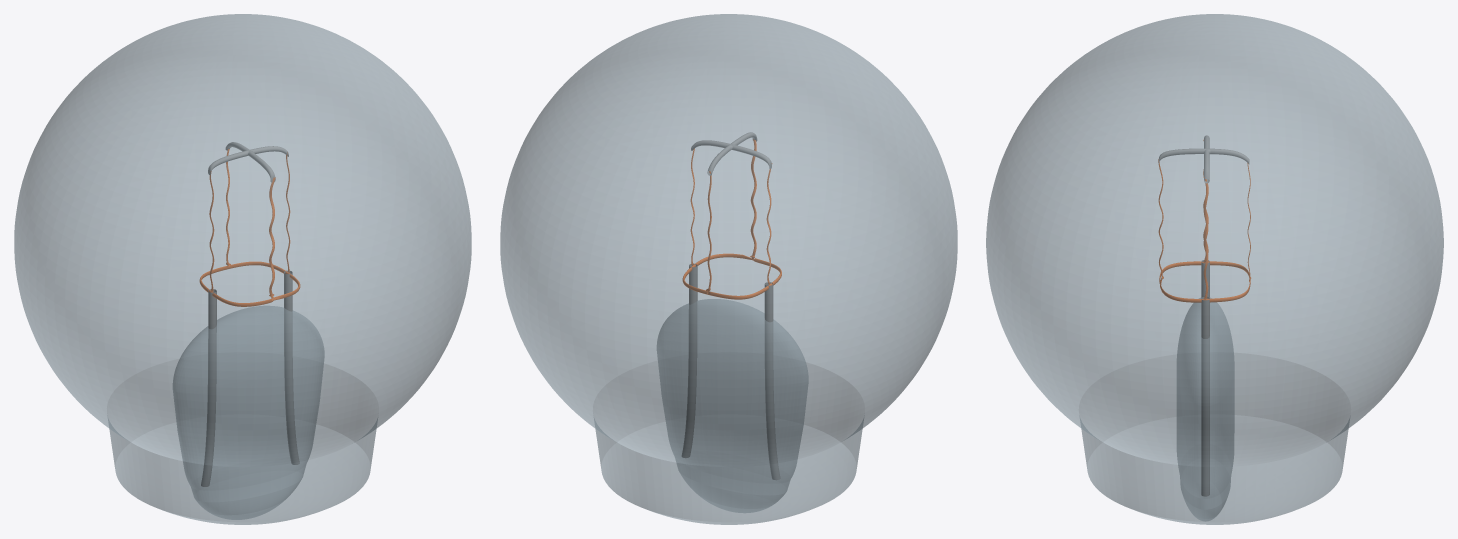
File: focoApagado.dae
The picture shows the model from 3 angles, left to right: view 1: azimuth 30°, elevation 25°; view 2: azimuth 150°, elevation 25°; view 3: azimuth 270°, elevation 25°; orthographic projection.
Parts seen in each view (by area): view 1: foco, Sphere.001, NurbsPath.002, filamento, NurbsPath.001; view 2: foco, Sphere.001, NurbsPath.002, filamento, NurbsPath.001; view 3: foco, Sphere.001, NurbsPath.002, filamento, NurbsPath.001.
Boxes of the visible parts, x1,y1,x2,y2 form: foco: (14,14,471,524); Sphere.001: (173,306,324,519); NurbsPath.002: (201,270,299,486); filamento: (199,149,300,306); NurbsPath.001: (208,142,288,182); foco: (500,14,957,524); Sphere.001: (657,299,808,512); NurbsPath.002: (682,264,780,479); filamento: (682,139,781,299); NurbsPath.001: (691,132,771,175); foco: (986,14,1443,524); Sphere.001: (1177,297,1234,521); NurbsPath.002: (1201,260,1209,496); filamento: (1158,140,1250,302); NurbsPath.001: (1158,135,1249,183).
Size of the model in its own units: 1.16 by 1.16 by 1.34.
